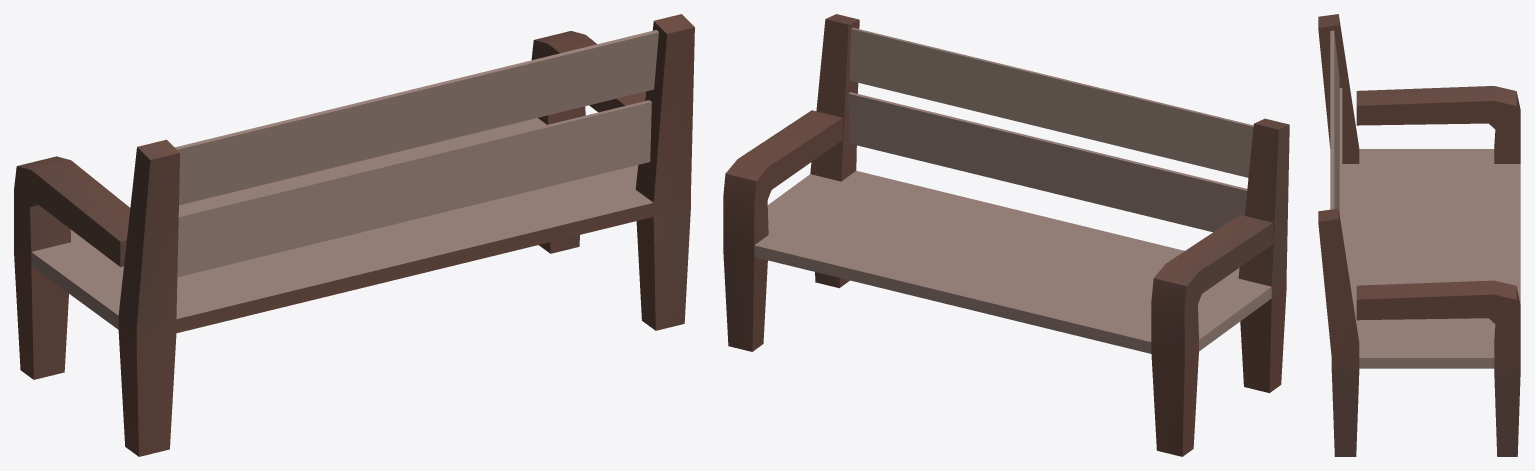
The model's file is Bench.FBX.
The picture shows the model from 3 angles, left to right: view 1: azimuth 30°, elevation 25°; view 2: azimuth 150°, elevation 25°; view 3: azimuth 270°, elevation 25°; orthographic projection. The views are drawn at different scales.
Visible parts, largest first — view 1: Bench; view 2: Bench; view 3: Bench.
Part boxes in pixels (x1,y1,x2,y2): Bench: (14,14,694,456); Bench: (723,14,1289,456); Bench: (1318,14,1520,456).
Bounding box in the file's own units: 36.69 × 19.48 × 15.05.
